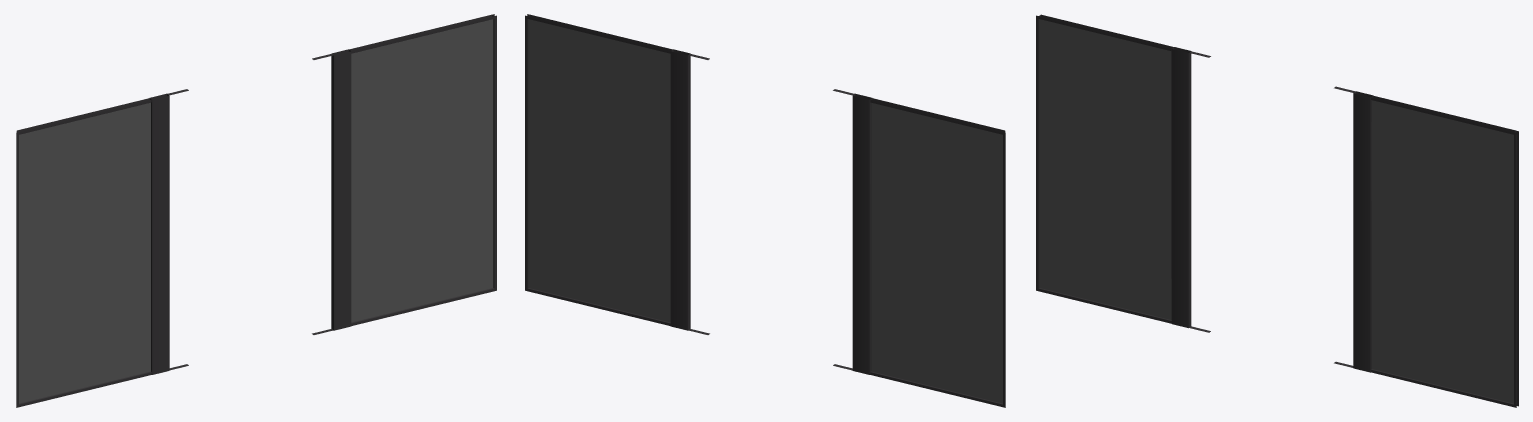
File: glass door frame3.FBX
3 renders of one model, left to right at view 1: azimuth 30°, elevation 25°; view 2: azimuth 150°, elevation 25°; view 3: azimuth 330°, elevation 25°, orthographic.
Parts seen in each view (by area): view 1: glass door frame3; view 2: glass door frame3; view 3: glass door frame3.
Part boxes in pixels (left/top/right/bottom): glass door frame3: left=16, top=14, right=496, bottom=407; glass door frame3: left=525, top=14, right=1005, bottom=407; glass door frame3: left=1036, top=14, right=1518, bottom=407.
Bounding box in the file's own units: 192 × 1.88 × 105.
Materials: 2 (2 with a texture image).
